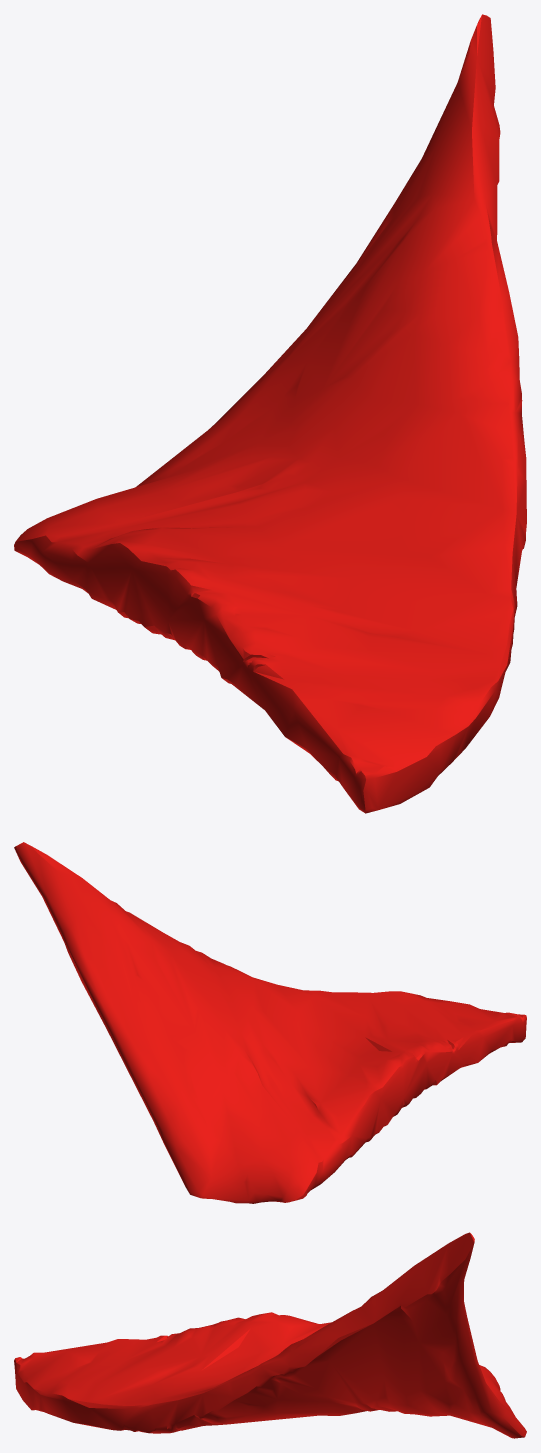
File: Left mylohyoid.fbx
The picture shows the model from 3 angles, top to bottom: view 1: azimuth 30°, elevation 25°; view 2: azimuth 150°, elevation 25°; view 3: azimuth 270°, elevation 25°; orthographic projection. The views are drawn at different scales.
Visible parts, largest first — view 1: Left mylohyoid; view 2: Left mylohyoid; view 3: Left mylohyoid.
Boxes of the visible parts, <box> form: Left mylohyoid: <box>14,14,526,813</box>; Left mylohyoid: <box>14,842,526,1203</box>; Left mylohyoid: <box>14,1232,526,1438</box>.
Bounding box in the file's own units: 3.48 × 3.23 × 4.88.
